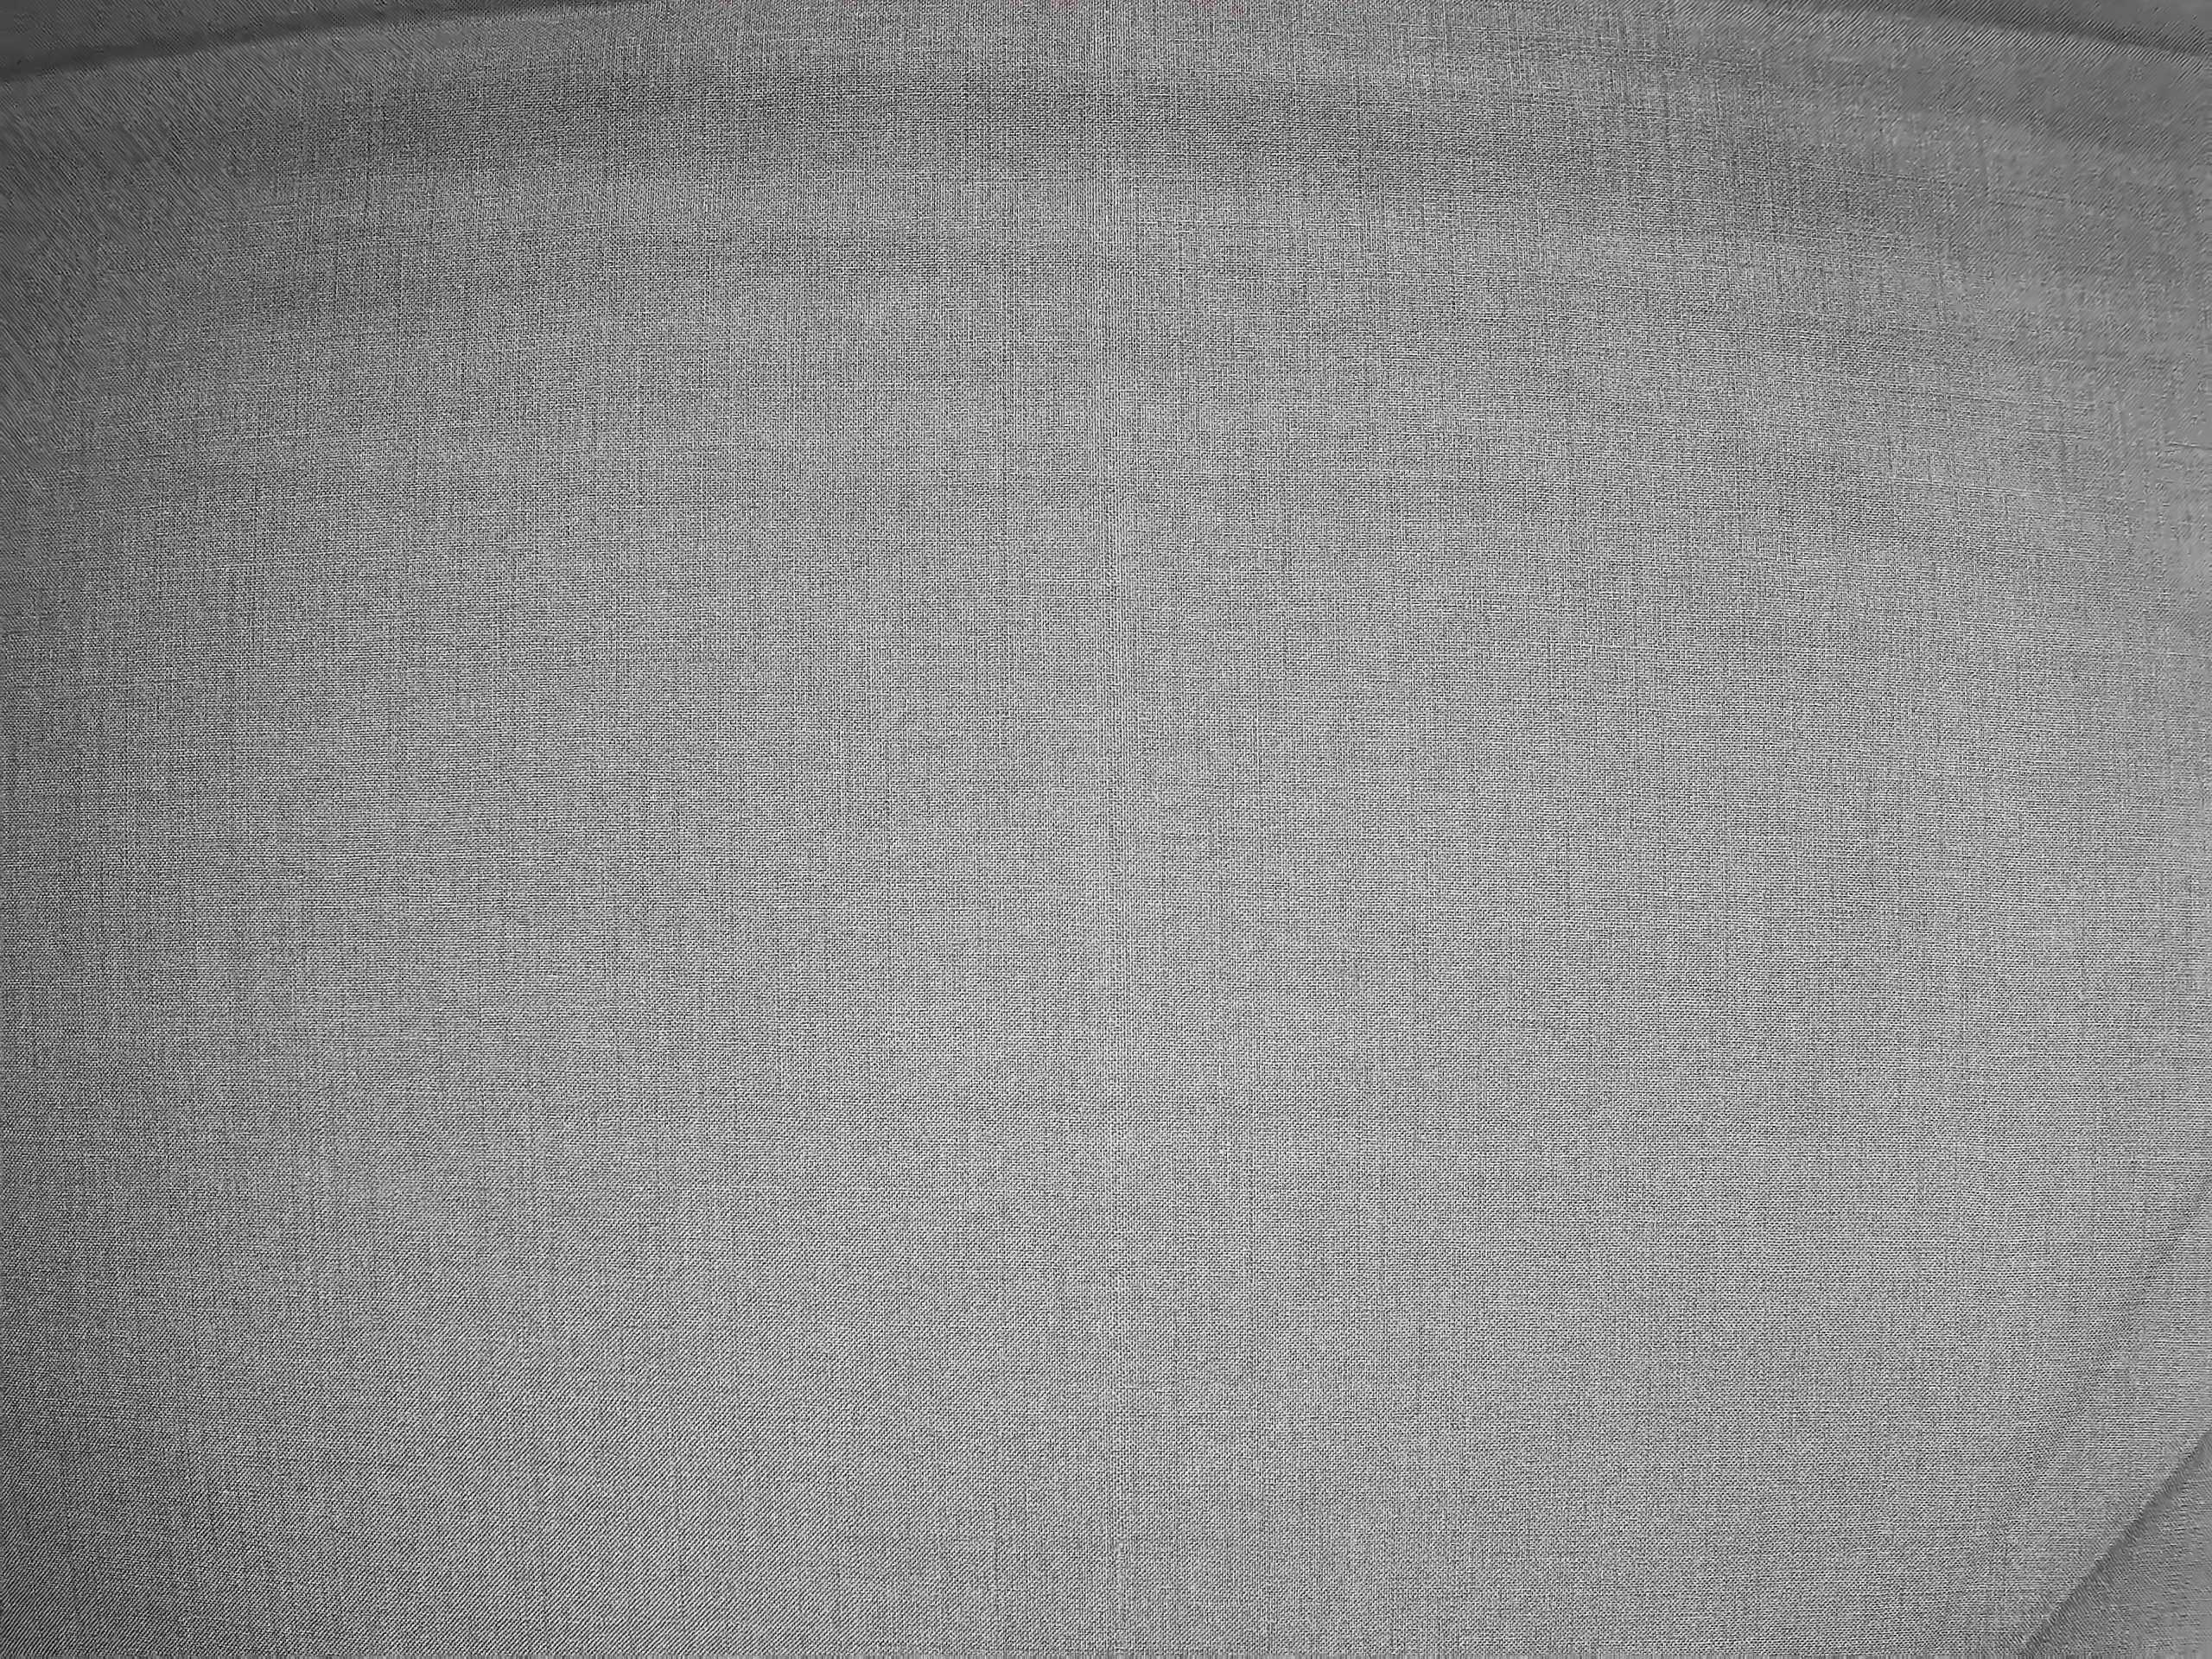lacking-warp: (1090, 385, 1148, 1581)
